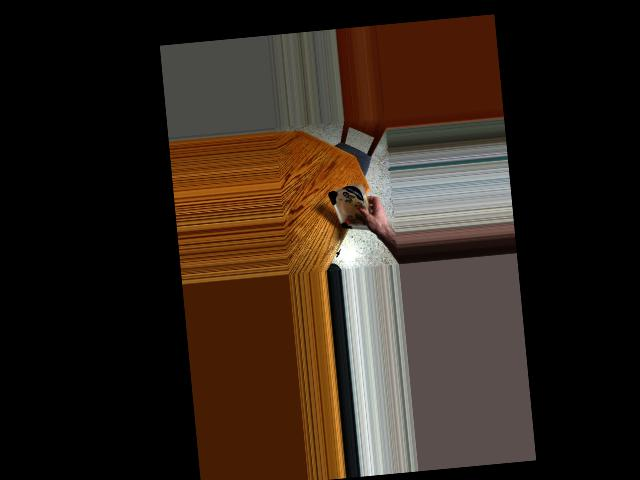cheese: (332, 180, 371, 235)
